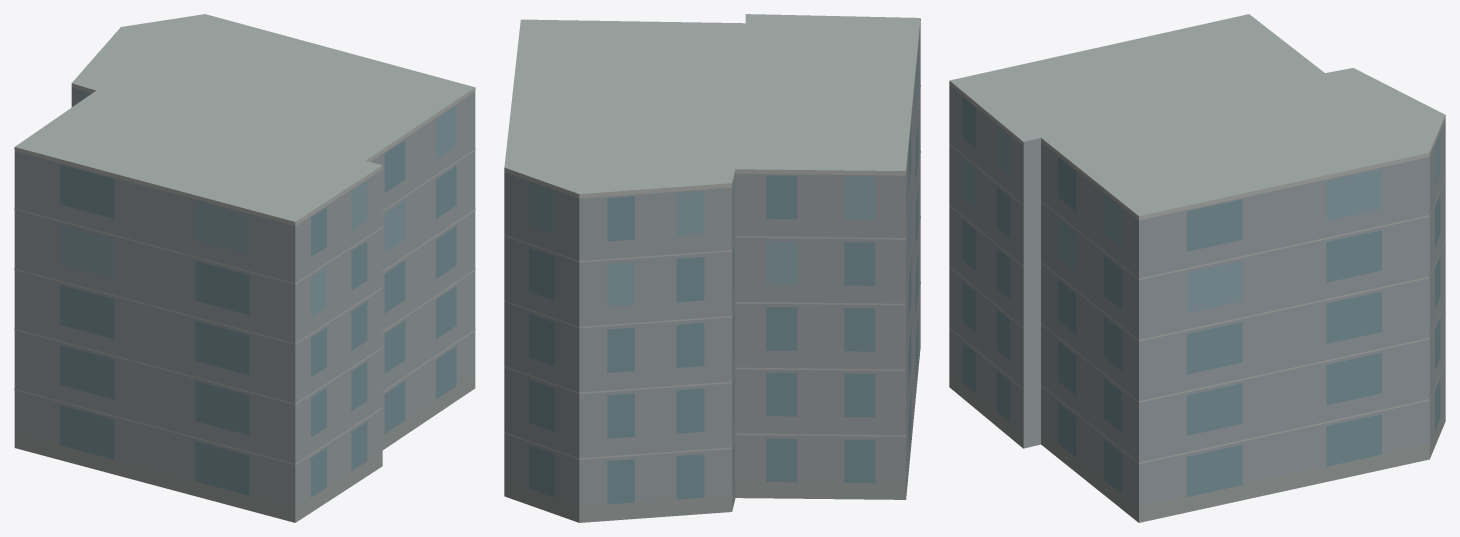
Rendered from survey-upis-32496997.glb.
3 renders of one model, left to right at view 1: azimuth 30°, elevation 25°; view 2: azimuth 150°, elevation 25°; view 3: azimuth 270°, elevation 25°, orthographic. The views are drawn at different scales.
Parts seen in each view (by area): view 1: survey-upis-32496997.tmp; view 2: survey-upis-32496997.tmp; view 3: survey-upis-32496997.tmp.
Part boxes in pixels (x1,y1,x2,y2): survey-upis-32496997.tmp: (14, 14, 475, 522); survey-upis-32496997.tmp: (504, 14, 920, 522); survey-upis-32496997.tmp: (949, 14, 1445, 522).
Bounding box in the file's own units: 25.34 × 17.9 × 26.27.
